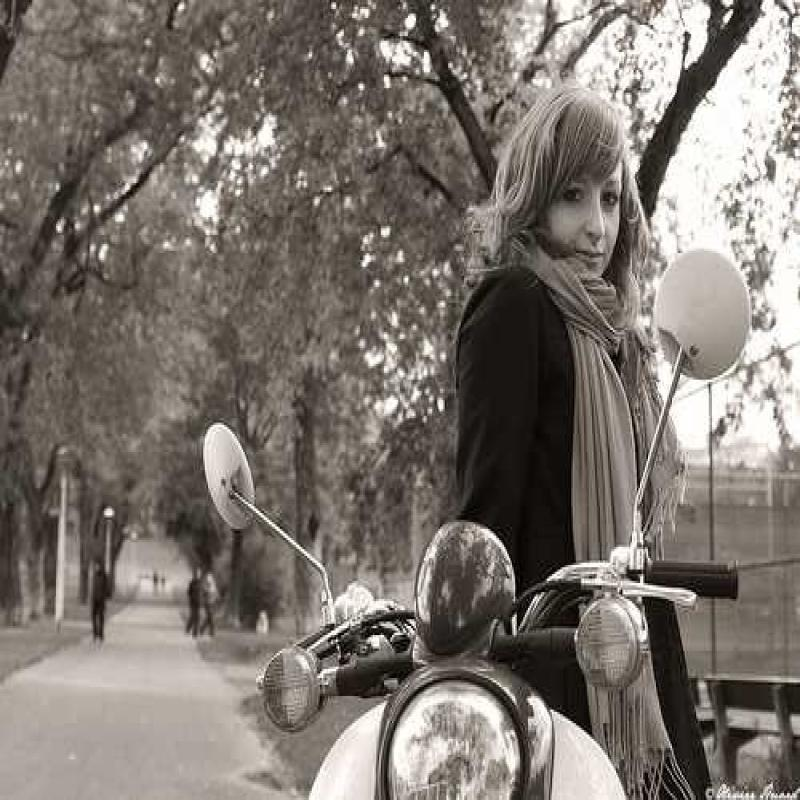bike: (198, 361, 798, 800)
